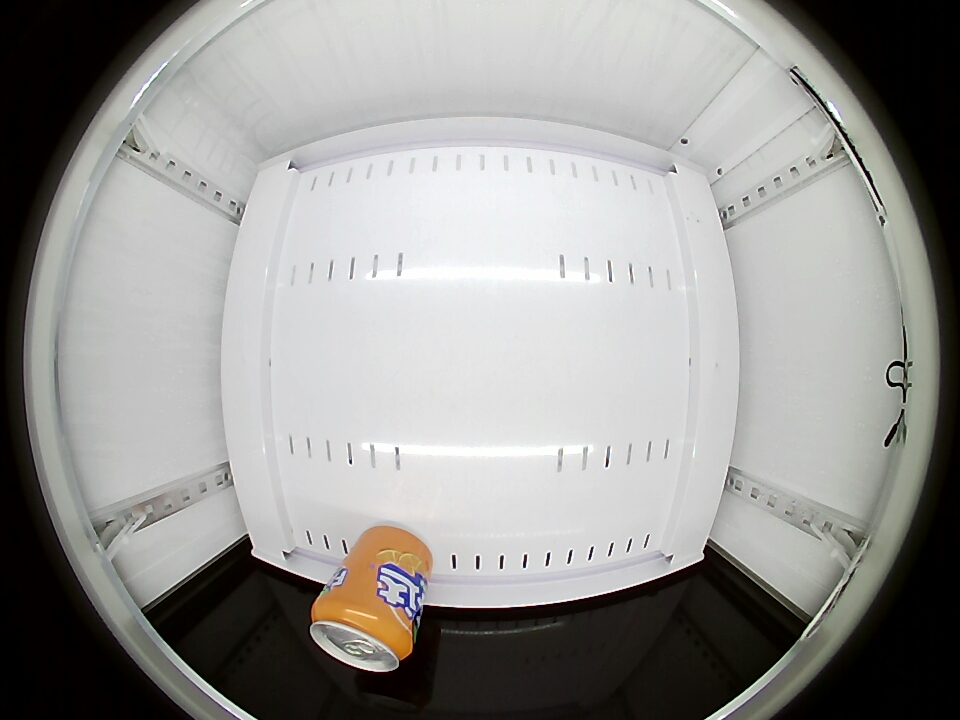fenda: (310, 592, 416, 672)
